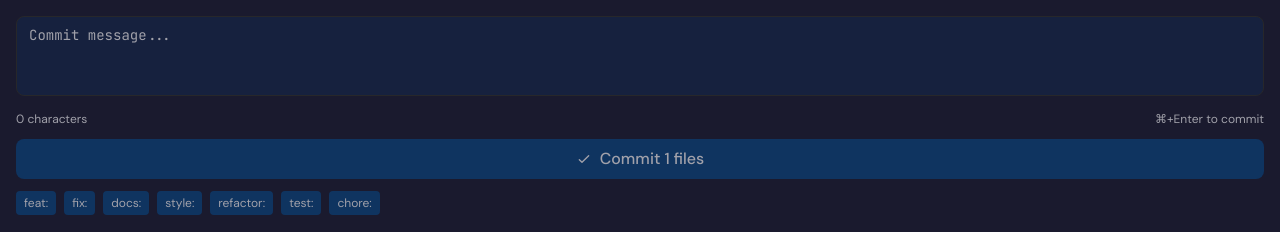
Test: CommitForm › should add prefix to message when clicked
The width and height of the screenshot is (1280, 232).
In the text box with placeholder "Commit message...": (640, 56) [16,16,1264,96], type "add new feature"
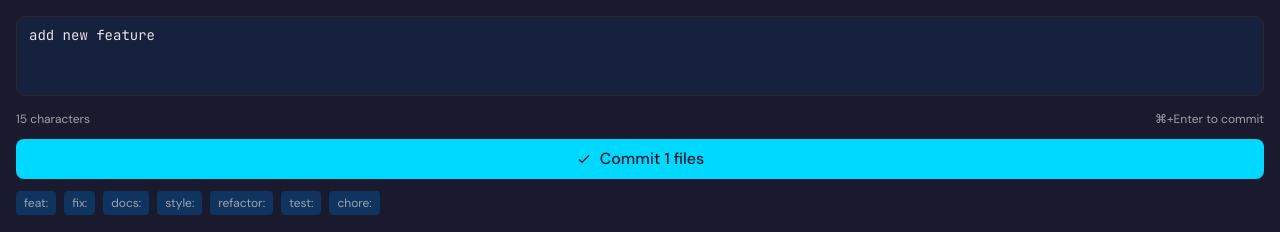
Click the button "feat:": (36, 203) [16,191,56,215]
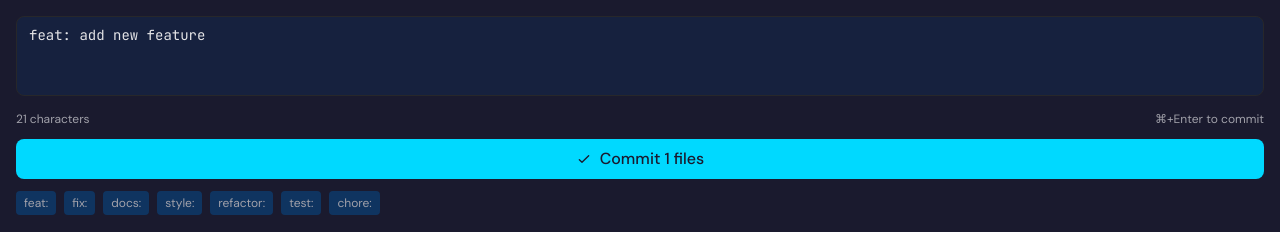
Expected: the text box with placeholder "Commit message..." holds "feat: add new feature", [16,16,1264,96]
